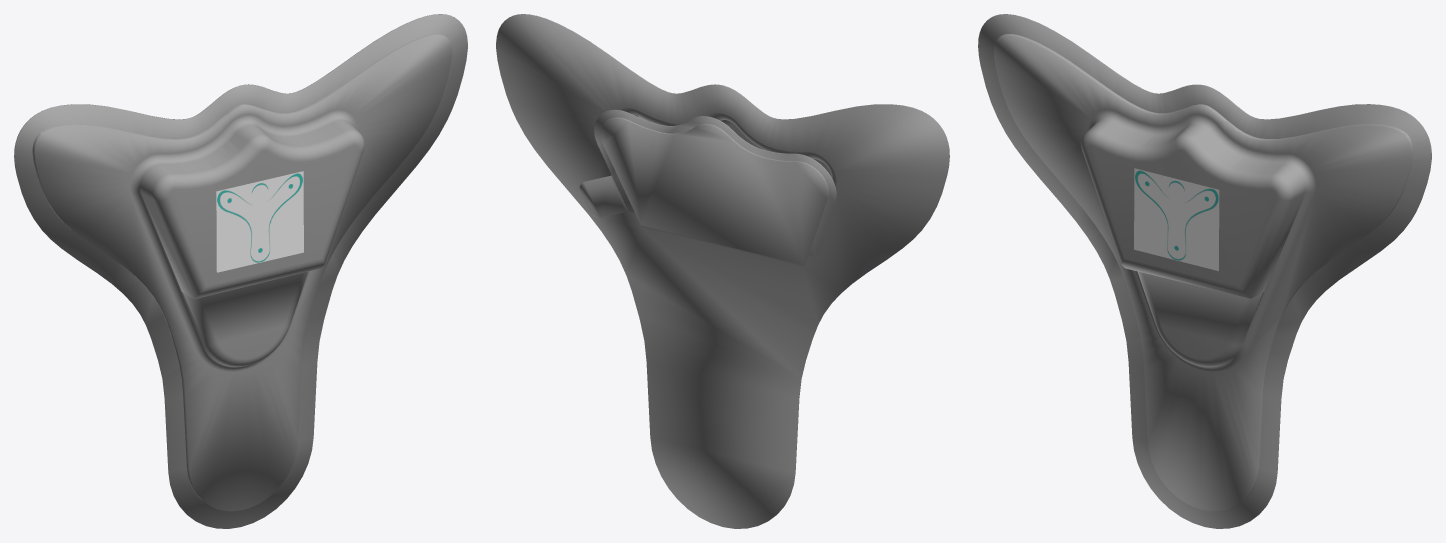
The model's file is patchV2.obj.
The picture shows the model from 3 angles, left to right: view 1: azimuth 30°, elevation 25°; view 2: azimuth 150°, elevation 25°; view 3: azimuth 330°, elevation 25°; orthographic projection.
Parts seen in each view (by area): view 1: Icone_patch_Inomedis; view 2: Icone_patch_Inomedis; view 3: Icone_patch_Inomedis.
Part boxes in pixels (box(x1,y1,x2,y2)): Icone_patch_Inomedis: box(14, 14, 467, 528); Icone_patch_Inomedis: box(496, 14, 949, 528); Icone_patch_Inomedis: box(978, 14, 1431, 528).
Size of the model in its own units: 1.25 by 1.23 by 0.1779.
2 materials, 1 textured.
